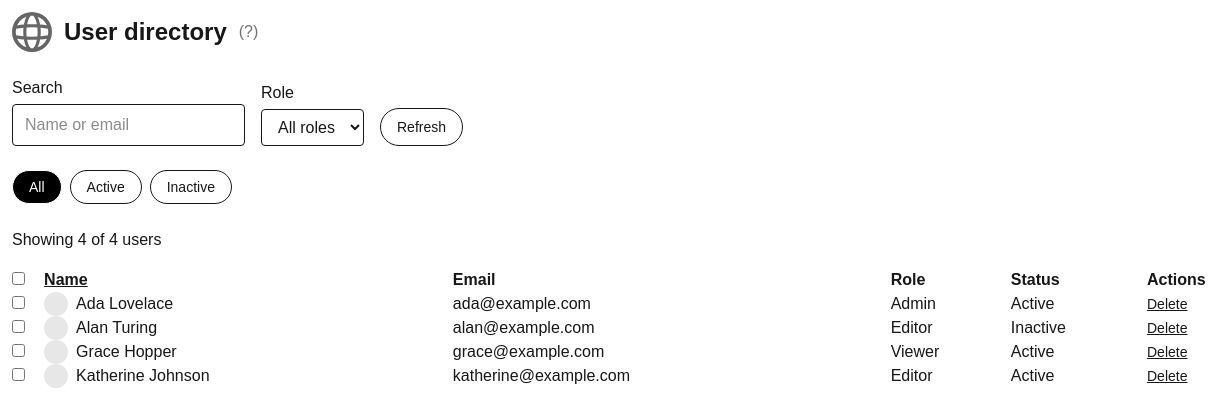
Test: loading, error and empty states › shows an empty state when the filters exclude everyone
Click the tab "Inactive" at point(191, 187), box left=150, top=170, right=232, bottom=204
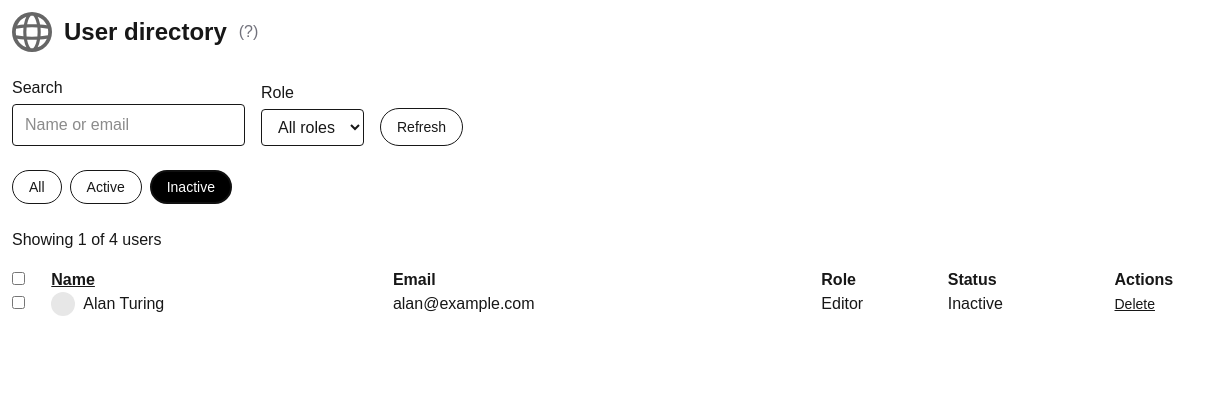
Select "Admin" in the dropdown labelled "Role" at point(312, 128), box left=261, top=109, right=364, bottom=146
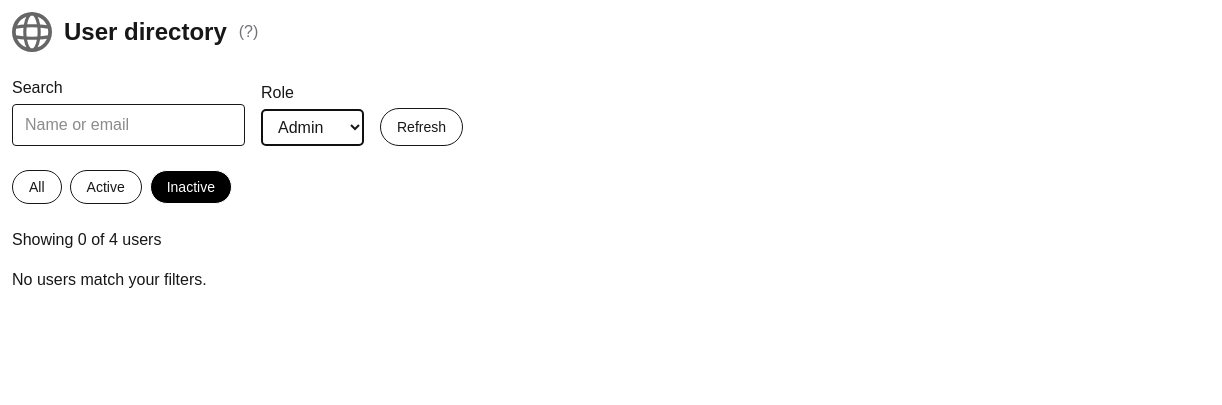
Expected: the text "No users match your filters." is shown, left=12, top=271, right=207, bottom=288
Expected: the table is gone
Expected: the text with test id "result-summary" reads "Showing 0 of 4 users", left=12, top=228, right=162, bottom=252
